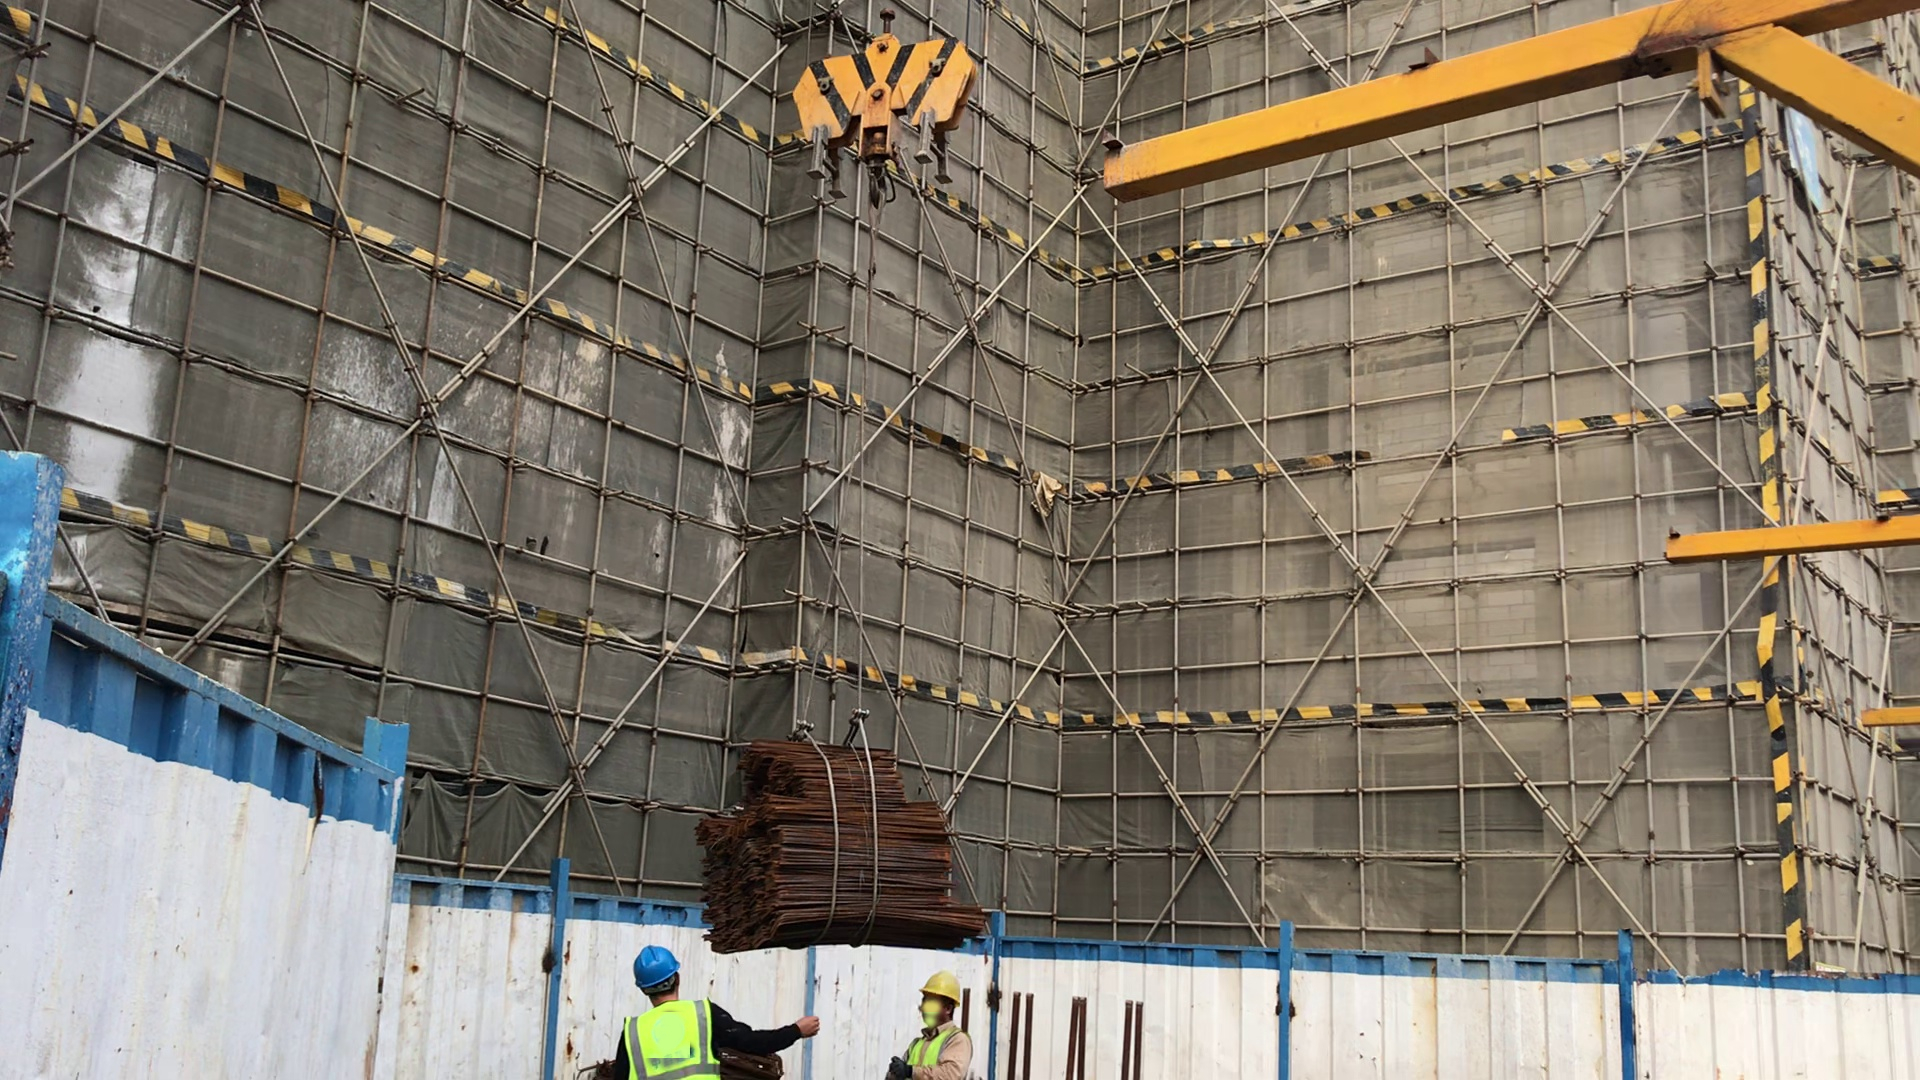helmet: (633, 943, 682, 983), (917, 974, 963, 1004)
hook: (790, 31, 977, 187)
person: (567, 938, 824, 1080), (884, 971, 975, 1080)
vest: (617, 998, 718, 1080), (899, 1023, 963, 1080)
